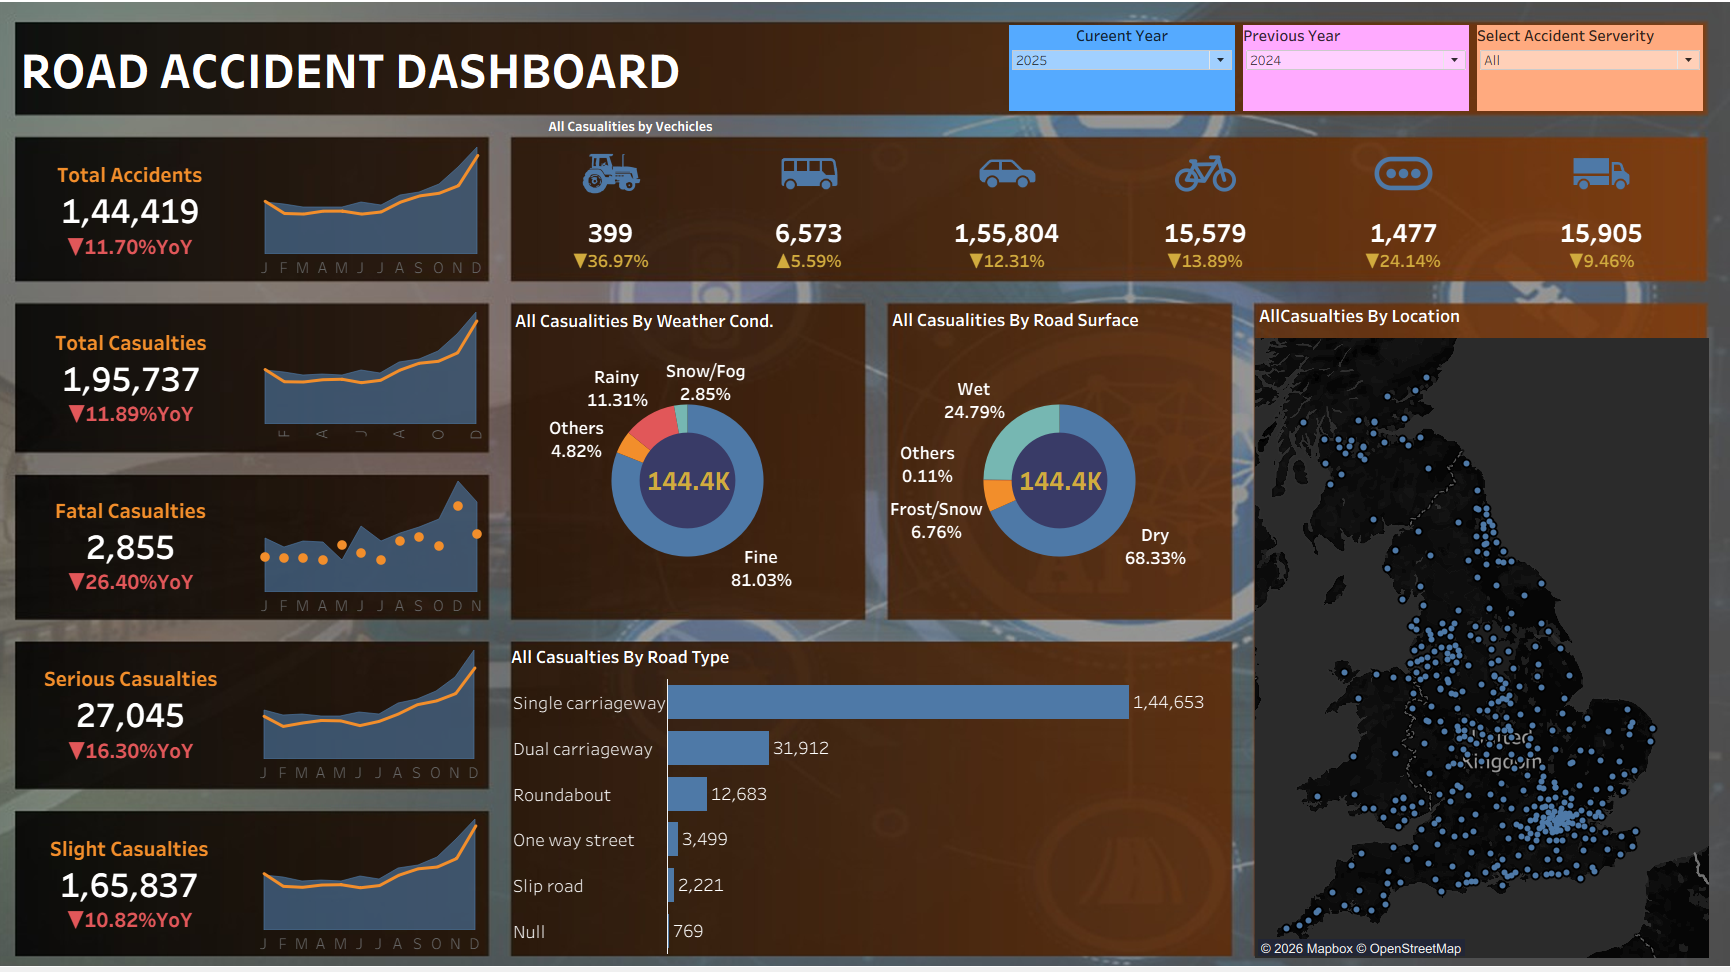

This screenshot's page, from the dashboard's own definition file:
{"tool":"tableau","page":{"name":"Dashboard 1","canvas":[1000,1000],"units":"permille","ordinal":0},"visuals":[{"type":"image","param":"C:/Users/omkad/OneDrive/Desktop/Tableau Project/Background format.jpg","box":[4.2,8,991.7,984]},{"type":"text","box":[17.7,23.8,410.7,108.8]},{"type":"parameter","param":"[Parameters].[Parameter 1]","box":[532.3,31,121.9,94]},{"type":"parameter","param":"[Parameters].[Parameter 1 1]","box":[654.2,31,121.9,94]},{"type":"parameter","param":"[Parameters].[Parameter 2]","box":[776,31,121.9,94]},{"type":"text","box":[292.5,126.7,208.4,17.8]},{"type":"worksheet","title":"Vehicle Type Images","mark":"Shape","box":[273.4,144,623.4,75]},{"type":"worksheet","title":"Total Accidents","mark":"Automatic","box":[14.1,148,125.5,145]},{"type":"worksheet","title":"Accident Sparkline","mark":"Automatic","rows":["CY Accidents (copy)_1212312754153975810","Calculation_1212312754151170049"],"cols":["Accident Date"],"box":[139.6,148,125,145]},{"type":"worksheet","title":"Vehicle Type KPI","mark":"Automatic","box":[273.4,219,623.4,74]},{"type":"worksheet","title":"By Location","mark":"Automatic","rows":["Latitude"],"cols":["Longitude"],"box":[662.5,309,236.5,659]},{"type":"worksheet","title":"Total Casualties","mark":"Automatic","box":[15.1,312,124.5,152]},{"type":"worksheet","title":"Total Casualities Sparkline","mark":"Automatic","rows":["CY Casualties (copy)_1212312754168385542","Calculation_1212312754167050245"],"cols":["Accident Date"],"box":[139.6,312,124.5,152]},{"type":"worksheet","title":"Road Surface","mark":"Pie","rows":["Calculation_2208171223999680513","Calculation_2208171223999729668"],"box":[471.4,313,178.7,316]},{"type":"worksheet","title":"Weather Conditions","mark":"Pie","rows":["Calculation_2208171223999680513","Calculation_2208171223999729668"],"box":[275,314,183.8,314]},{"type":"worksheet","title":"Fatal Casualties ","mark":"Automatic","box":[14.6,481,125,150]},{"type":"worksheet","title":"Fatal Sparkline ","mark":"Automatic","rows":["CY Fatal Casualties (copy)_2592666040424525825","Calculation_2592666040423985152"],"cols":["Accident Date"],"box":[139.6,481,125,150]},{"type":"worksheet","title":"Road Type","mark":"Automatic","rows":["Road_Type"],"cols":["Calculation_1212312754167050245"],"box":[272.9,650,377.6,314]},{"type":"worksheet","title":"Serious Casualties ","mark":"Automatic","box":[15.1,651,124,147]},{"type":"worksheet","title":"Serious Sparkline ","mark":"Automatic","rows":["PY Fatal Casualties  (copy)_2592666040425394180","CY Fatal Casualties (copy)_2592666040425218051"],"cols":["Accident Date"],"box":[139.1,651,124,147]},{"type":"worksheet","title":"Slight Casualties ","mark":"Automatic","box":[14.6,819,124.5,150]},{"type":"worksheet","title":"Slight Sparkline ","mark":"Automatic","rows":["PY Serious Casualties   (copy)_2592666040426139655","CY Serious Casualties  (copy)_2592666040426033158"],"cols":["Accident Date"],"box":[139.1,819,124.5,150]}]}

Visuals, with their boxes on the dashboard's canvas, which has no fixed pixel size, in thousandths of its width and height (x1, y1, x2, y2). These are canvas units, not pixel positions in the 1731x972 screenshot, which may show the page scaled, cropped or inside an application window:
image: (4, 8, 996, 992)
text: (18, 24, 428, 133)
parameter: (532, 31, 654, 125)
parameter: (654, 31, 776, 125)
parameter: (776, 31, 898, 125)
text: (292, 127, 501, 144)
"Vehicle Type Images" worksheet (Shape marks): (273, 144, 897, 219)
"Total Accidents" worksheet: (14, 148, 140, 293)
"Accident Sparkline" worksheet: (140, 148, 265, 293)
"Vehicle Type KPI" worksheet: (273, 219, 897, 293)
"By Location" worksheet: (662, 309, 899, 968)
"Total Casualties" worksheet: (15, 312, 140, 464)
"Total Casualities Sparkline" worksheet: (140, 312, 264, 464)
"Road Surface" worksheet (Pie marks): (471, 313, 650, 629)
"Weather Conditions" worksheet (Pie marks): (275, 314, 459, 628)
"Fatal Casualties " worksheet: (15, 481, 140, 631)
"Fatal Sparkline " worksheet: (140, 481, 265, 631)
"Road Type" worksheet: (273, 650, 650, 964)
"Serious Casualties " worksheet: (15, 651, 139, 798)
"Serious Sparkline " worksheet: (139, 651, 263, 798)
"Slight Casualties " worksheet: (15, 819, 139, 969)
"Slight Sparkline " worksheet: (139, 819, 264, 969)
